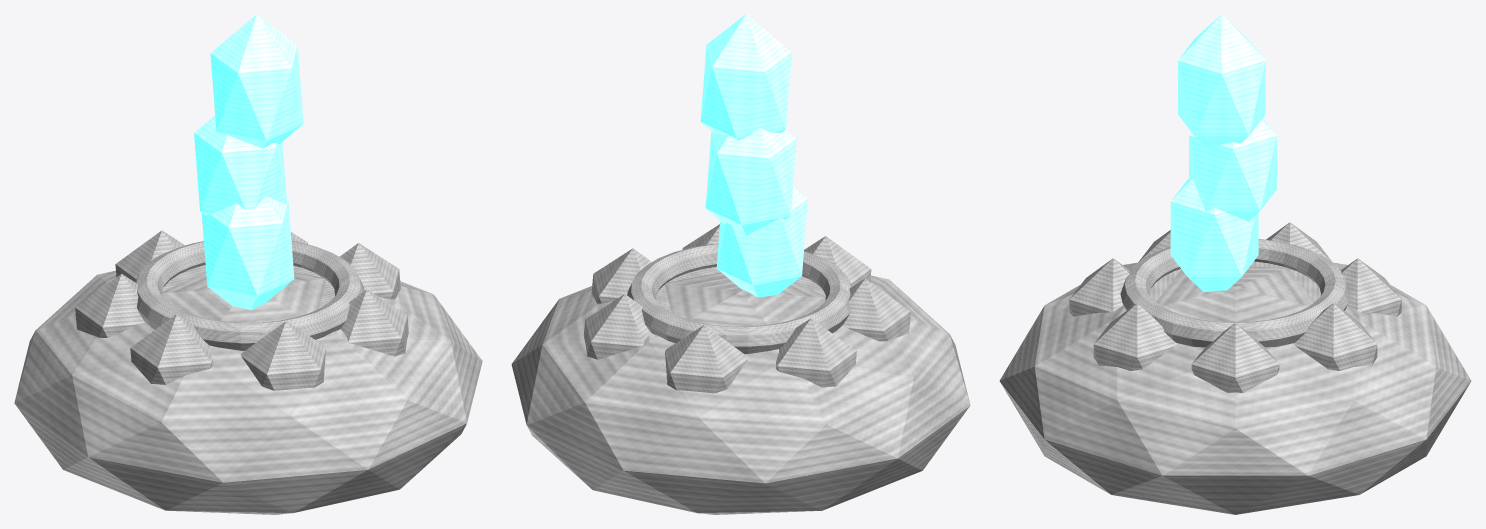
The model's file is geyser_variant_b.glb.
3 views of the same model, side by side, from view 1: azimuth 30°, elevation 25°; view 2: azimuth 150°, elevation 25°; view 3: azimuth 270°, elevation 25° (orthographic). The views are drawn at different scales.
Visible parts, largest first — view 1: Geyser mound.002, Steam plume volume.005, Geothermal rim.002, Steam plume volume.003, Steam plume volume.004, Vent rock.012, Vent rock.011, Vent rock.013, Vent rock.010, Vent rock.007, Vent rock.009, Vent throat.001; view 2: Geyser mound.002, Steam plume volume.005, Geothermal rim.002, Steam plume volume.004, Steam plume volume.003, Vent rock.009, Vent rock.010, Vent rock.008, Vent rock.011, Vent rock.007, Vent rock.012, Vent throat.001; view 3: Geyser mound.002, Steam plume volume.005, Geothermal rim.002, Steam plume volume.003, Steam plume volume.004, Vent rock.007, Vent rock.008, Vent rock.013, Vent rock.009, Vent rock.012, Vent throat.001, Vent rock.010.
Boxes of the visible parts, box(x1,y1,x2,y2) form: Geyser mound.002: box(14, 270, 482, 514); Steam plume volume.005: box(210, 14, 303, 148); Geothermal rim.002: box(135, 241, 364, 350); Steam plume volume.003: box(201, 196, 294, 310); Steam plume volume.004: box(194, 115, 287, 215); Vent rock.012: box(240, 321, 325, 390); Vent rock.011: box(130, 314, 212, 384); Vent rock.013: box(340, 289, 408, 356); Vent rock.010: box(75, 273, 144, 337); Vent rock.007: box(339, 243, 400, 299); Vent rock.009: box(115, 230, 184, 281); Vent throat.001: box(162, 265, 334, 310); Geyser mound.002: box(511, 272, 970, 514); Steam plume volume.005: box(700, 14, 791, 140); Geothermal rim.002: box(627, 243, 851, 354); Steam plume volume.004: box(705, 128, 796, 235); Steam plume volume.003: box(716, 187, 807, 297); Vent rock.009: box(665, 325, 748, 393); Vent rock.010: box(776, 318, 856, 387); Vent rock.008: box(583, 294, 650, 359); Vent rock.011: box(842, 278, 910, 341); Vent rock.007: box(591, 248, 651, 303); Vent rock.012: box(804, 236, 871, 286); Vent throat.001: box(656, 267, 825, 314); Geyser mound.002: box(999, 262, 1471, 514); Steam plume volume.005: box(1178, 14, 1265, 148); Geothermal rim.002: box(1120, 239, 1350, 347); Steam plume volume.003: box(1170, 178, 1258, 292); Steam plume volume.004: box(1189, 118, 1276, 221); Vent rock.007: box(1191, 323, 1279, 392); Vent rock.008: box(1293, 303, 1377, 370); Vent rock.013: box(1093, 303, 1177, 370); Vent rock.009: box(1340, 258, 1401, 316); Vent rock.012: box(1069, 258, 1130, 316); Vent throat.001: box(1150, 261, 1320, 301); Vent rock.010: box(1266, 222, 1332, 262).
Size of what is drawn, in the model's own units: 3.04 by 3.45 by 3.2.
4 materials, 4 textured.
